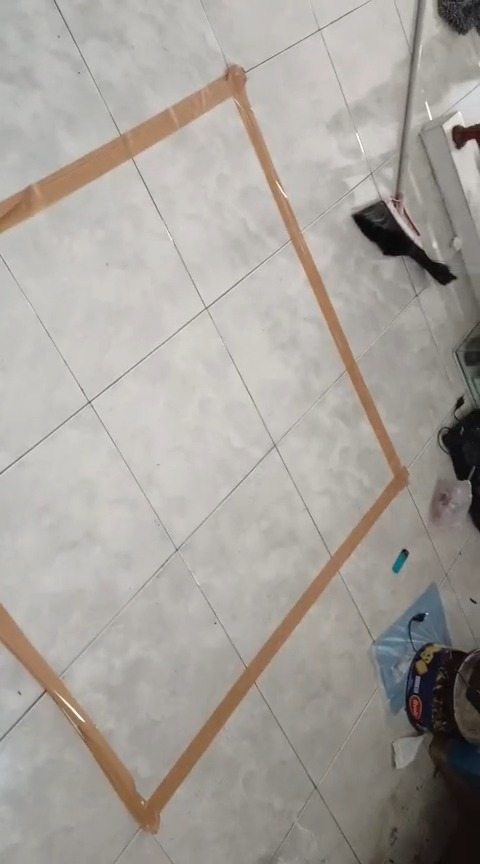floor marking: (0, 66, 407, 832)
